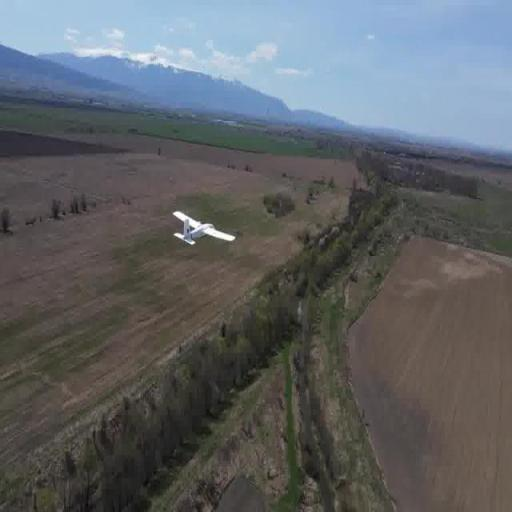uav: (173, 201, 240, 257)
